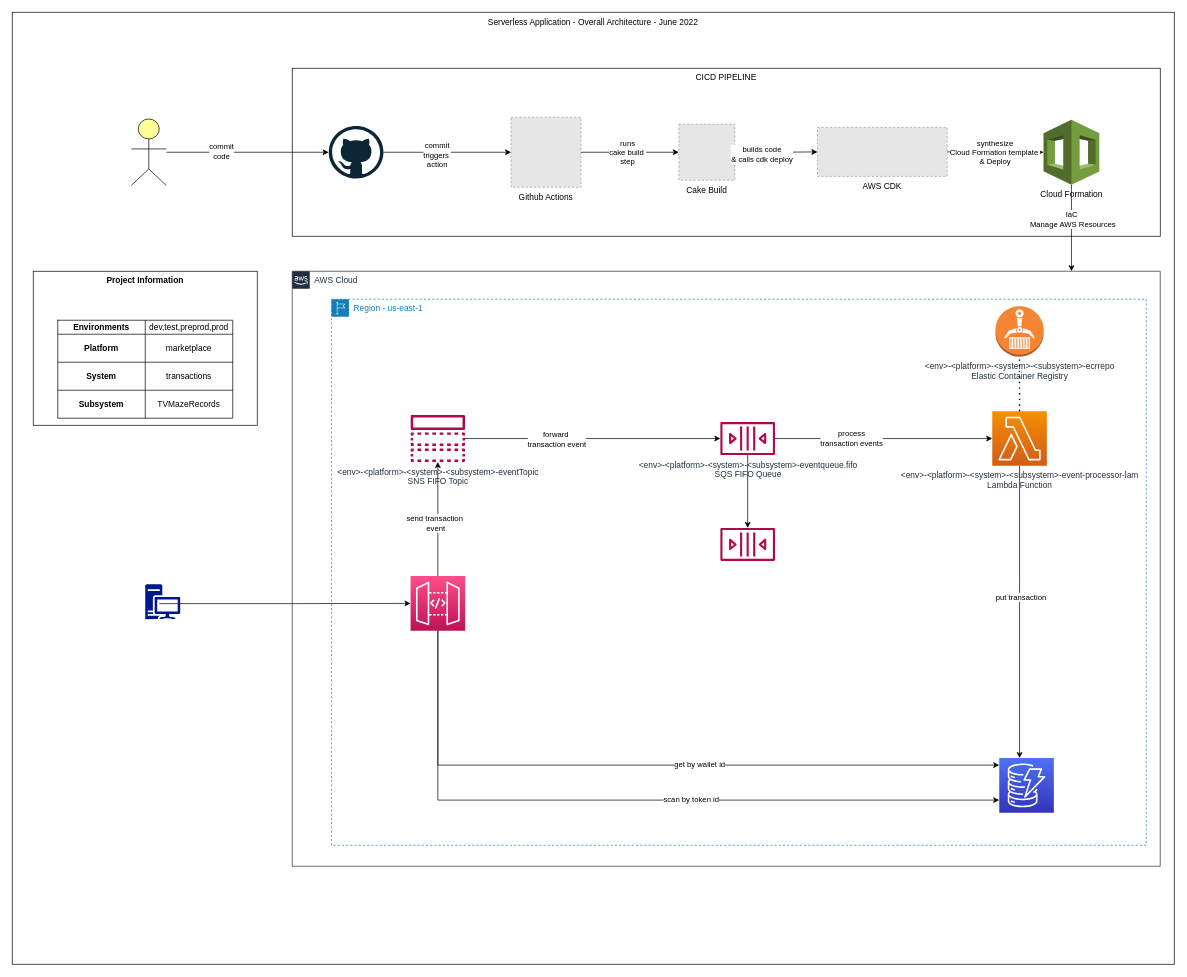
This 1187x977 diagram has some shape labels left out. Grey dashed boxes stand in for pictures. Here are the shapes that lost their labels. From the top down, the centre of each, then its label:
At [148,152]: "Developer".
At [355,151]: "Github Repo".
At [747,544]: "<env>-<platform>-<system>-<subsystem>-eventqueue-deadletter.fifo SQS FIFO Queue".
At [162,601]: "Clients".
At [437,603]: "<env>-<platform>-<system>-<subsystem>-ingest API GATEWAY".
At [1026,785]: "<env>-<platform>-<system>-<subsystem>-TVMazeRecorddatamodel Dynamodb Table".
